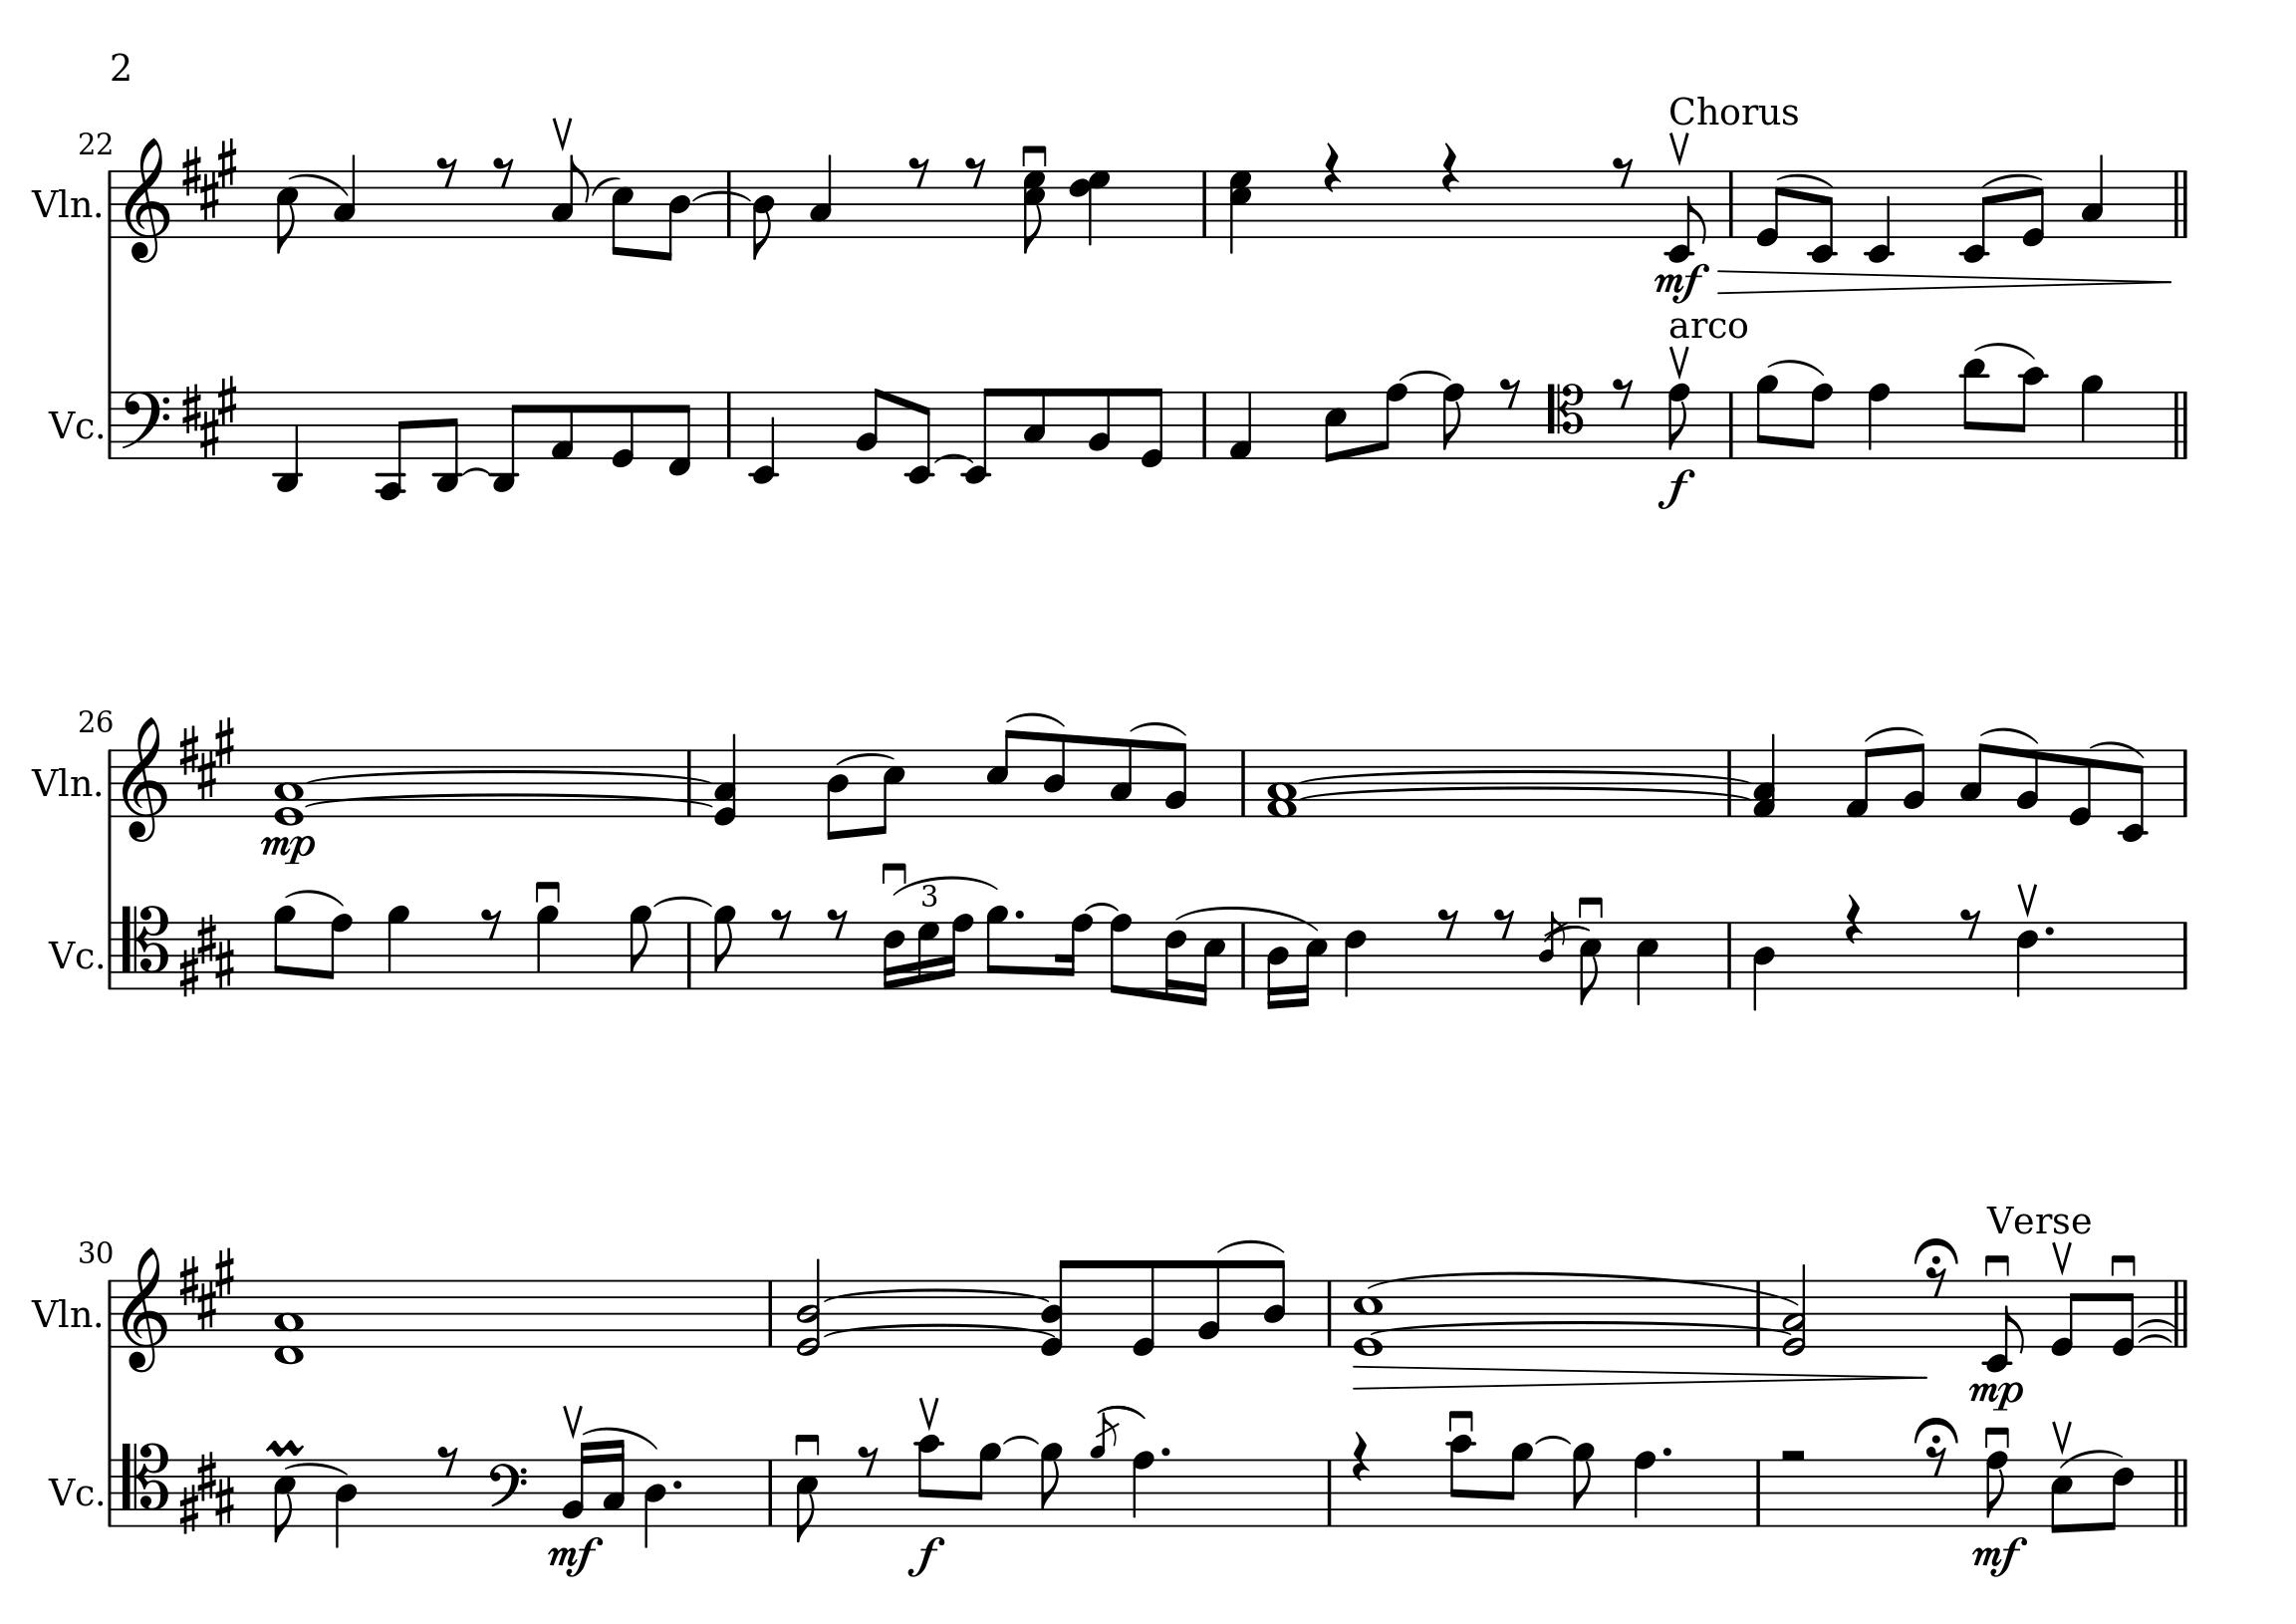0: (95, 1236, 112, 1264)
16_2: (560, 1439, 592, 1527)
16_3: (601, 1436, 625, 1526)
16_4: (1267, 919, 1289, 1009)
16_5: (1195, 921, 1228, 1007), (1298, 919, 1328, 1009)
16_6: (1163, 919, 1188, 1004), (880, 919, 905, 991)
16_7: (915, 919, 940, 991)
16_8: (1054, 912, 1093, 990), (943, 910, 975, 990)
1_-1_3: (272, 1278, 306, 1366)
1_0_3: (271, 747, 306, 828)
1_0_5: (1351, 1278, 1384, 1357)
1_1_3: (1265, 749, 1296, 819)
2: (109, 49, 132, 81), (93, 130, 112, 155), (77, 707, 95, 733), (77, 130, 95, 155)
2_0_3: (1781, 1264, 1809, 1357)
2_0_4: (794, 1257, 822, 1359)
3: (921, 882, 938, 907), (77, 1239, 93, 1264)
4_-2: (747, 388, 778, 483), (1864, 169, 1892, 264)
4_-3: (272, 387, 302, 494)
4_0_3: (713, 735, 740, 828)
4_1: (1228, 390, 1254, 460)
4_1_3: (1751, 735, 1778, 819)
4_3: (332, 153, 358, 239), (808, 153, 834, 237), (2080, 153, 2105, 237)
4_4: (1751, 919, 1776, 1012), (643, 1455, 668, 1548), (334, 1457, 358, 1547)
4_5: (1634, 919, 1660, 1007)
4_5_7: (1228, 169, 1254, 255)
4_6: (1344, 919, 1368, 998), (2015, 919, 2040, 998)
4_6_7: (1068, 169, 1112, 250)
4_8: (1866, 381, 1892, 460), (1632, 1450, 1657, 1529), (1131, 1450, 1154, 1529)
4_9: (2078, 373, 2105, 460), (385, 903, 411, 990), (534, 903, 560, 990)
6: (95, 707, 114, 735)
8_-1: (666, 388, 694, 478)
8_-2: (1664, 167, 1706, 262), (1982, 1278, 2024, 1373), (961, 385, 1000, 485), (1959, 169, 1994, 264), (903, 388, 935, 485), (1808, 169, 1838, 264), (2119, 749, 2148, 844)
8_-3: (490, 390, 523, 494), (432, 390, 464, 492)
8_-4: (374, 388, 411, 501)
8_0: (1130, 1257, 1158, 1359), (2048, 1278, 2082, 1357), (1755, 169, 1785, 248), (608, 388, 636, 469), (1138, 385, 1165, 471), (2068, 747, 2094, 828), (2112, 1278, 2136, 1359), (2022, 169, 2047, 248)
8_0_4: (1038, 1260, 1079, 1357)
8_1: (1845, 745, 1878, 817), (548, 388, 576, 460)
8_10: (2010, 364, 2047, 460), (915, 1432, 945, 1526), (1446, 1432, 1474, 1527)
8_11: (1960, 355, 1989, 460)
8_2: (1196, 1257, 1223, 1350), (854, 385, 885, 460), (1163, 740, 1189, 819), (1901, 740, 1927, 819), (1086, 385, 1112, 460), (2015, 747, 2040, 817)
8_3: (550, 153, 588, 239), (1959, 740, 1990, 817), (1108, 736, 1135, 819), (1022, 385, 1047, 460)
8_4: (659, 169, 692, 264), (750, 169, 776, 262), (1261, 1257, 1288, 1348), (824, 747, 848, 842), (1042, 731, 1068, 819)
8_5: (873, 747, 906, 837), (986, 728, 1019, 817), (274, 167, 300, 255), (610, 169, 634, 257), (272, 1457, 297, 1543), (794, 1457, 819, 1543), (1578, 919, 1602, 1004), (2048, 1459, 2075, 1536), (1323, 388, 1347, 464)
8_5_7: (1019, 169, 1049, 257)
8_6: (2103, 1457, 2134, 1533)
8_8: (318, 912, 353, 990), (1374, 381, 1407, 460), (1801, 381, 1834, 460), (1108, 912, 1133, 997), (1440, 381, 1465, 460), (1667, 381, 1692, 460), (1985, 1450, 2010, 1527)
8_9: (1500, 1441, 1534, 1527), (970, 1441, 1001, 1527), (711, 903, 738, 991), (627, 903, 652, 991), (1038, 1441, 1063, 1529), (1570, 1441, 1595, 1529), (1755, 374, 1780, 460), (984, 903, 1008, 990), (272, 903, 295, 990)
A_S: (177, 137, 242, 220), (176, 1246, 239, 1330), (176, 1446, 237, 1533), (177, 715, 239, 800), (181, 374, 239, 457), (177, 912, 235, 995)
Acciaccature: (1089, 1411, 1119, 1527)
Double_barline: (2168, 169, 2192, 237), (2168, 1457, 2192, 1526), (2175, 1280, 2191, 1348)
Down_bow: (1446, 1406, 1476, 1434), (534, 877, 562, 905), (1982, 1251, 2011, 1278), (2108, 1251, 2138, 1278), (792, 1429, 822, 1455), (1576, 893, 1604, 919), (1019, 142, 1049, 167), (1982, 1425, 2011, 1450), (880, 859, 908, 884)
Fclef: (119, 388, 172, 460), (487, 1455, 529, 1526)
Fermata_above: (1911, 1236, 1960, 1265), (1913, 1415, 1959, 1446)
Final_barline: (2168, 390, 2192, 457)
Gclef: (121, 137, 172, 265), (119, 1244, 169, 1374), (121, 715, 169, 844)
Rests2: (1778, 1443, 1809, 1464)
Rests4: (1321, 139, 1342, 195), (1439, 139, 1460, 193), (1843, 893, 1864, 946), (1351, 1429, 1370, 1482)
Rests8: (492, 155, 516, 188), (963, 155, 987, 188), (908, 153, 931, 188), (1611, 153, 1634, 188), (480, 905, 502, 940), (1437, 905, 1460, 940), (1491, 905, 1514, 940), (1924, 1445, 1948, 1476), (436, 155, 458, 188), (1498, 376, 1521, 410), (1611, 376, 1634, 410), (769, 907, 792, 940), (826, 907, 848, 940), (1959, 905, 1982, 939), (436, 1443, 458, 1476), (857, 1443, 880, 1476), (1925, 1265, 1948, 1297)
ShortTrill: (265, 1436, 306, 1457)
Single_barline: (1195, 390, 1216, 459), (1195, 169, 1214, 236), (1233, 921, 1253, 988), (1319, 1459, 1339, 1524), (720, 390, 738, 459), (1720, 749, 1737, 816), (1720, 921, 1737, 988), (1321, 1280, 1339, 1345), (1235, 749, 1251, 816), (102, 749, 118, 816), (682, 749, 697, 816), (102, 921, 118, 988), (102, 1459, 118, 1526), (762, 1280, 778, 1345), (1750, 1280, 1765, 1345), (762, 1459, 778, 1524), (1750, 1459, 1765, 1524), (102, 169, 116, 237), (104, 390, 118, 459), (2178, 749, 2192, 816), (2178, 921, 2192, 988), (102, 1280, 116, 1346), (1723, 170, 1737, 236), (1723, 392, 1737, 457)
Slur: (1179, 903, 1314, 933), (583, 1425, 661, 1450), (894, 874, 1001, 891), (286, 172, 350, 197), (2057, 1448, 2126, 1469), (1973, 339, 2038, 360), (283, 1459, 351, 1478), (2087, 736, 2145, 758), (1765, 357, 1827, 376), (1537, 919, 1592, 940), (1216, 1237, 1288, 1253), (285, 888, 344, 905), (1980, 170, 2043, 186), (1005, 710, 1066, 726), (1778, 170, 1832, 188), (1128, 719, 1188, 735), (1864, 724, 1924, 740), (1980, 726, 2040, 742), (1098, 1403, 1147, 1420), (834, 750, 894, 765), (653, 893, 713, 907), (1398, 369, 1453, 383), (692, 190, 754, 202), (590, 176, 622, 195), (2136, 1330, 2173, 1345), (935, 452, 975, 464), (1534, 1432, 1572, 1445), (1001, 1434, 1040, 1446), (2136, 1318, 2175, 1329), (1084, 900, 1119, 910), (462, 466, 492, 475)
Tensor_Cclef: (118, 903, 169, 990), (118, 1441, 169, 1527), (1544, 381, 1585, 459)
Tremolo_bar: (2015, 881, 2040, 919), (1665, 130, 1692, 165), (550, 114, 574, 151), (1667, 344, 1692, 381), (2050, 1239, 2075, 1276), (917, 1394, 940, 1431), (562, 1403, 585, 1436), (2052, 1418, 2073, 1454)
Vc: (47, 402, 97, 443), (47, 937, 97, 974), (47, 1476, 95, 1508)
Vln: (30, 1292, 93, 1336), (32, 183, 93, 225), (32, 763, 93, 803)
dot: (2041, 921, 2057, 937), (668, 1476, 685, 1490), (1658, 1443, 1674, 1457), (1158, 1443, 1172, 1457), (1014, 905, 1024, 921)
f: (1655, 466, 1695, 510), (905, 1536, 947, 1577)
mf: (1653, 262, 1713, 302), (546, 1534, 601, 1578), (1971, 1536, 2025, 1578)
mp: (1967, 1378, 2024, 1411), (258, 833, 316, 865)
